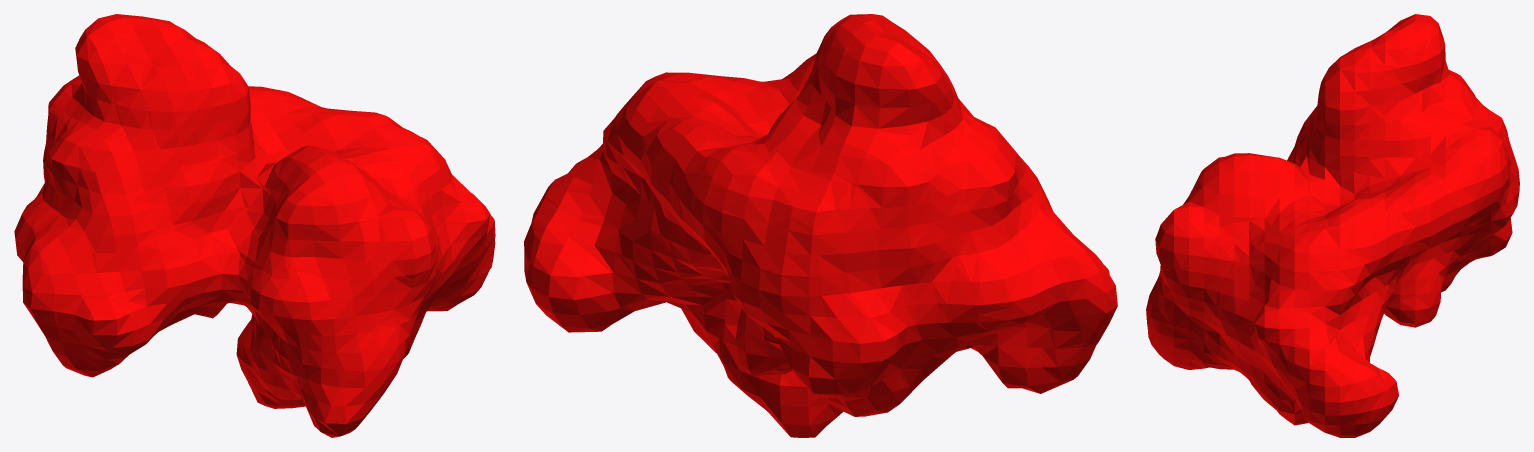
File: glpB_coarse.dae
3 renders of one model, left to right at view 1: azimuth 30°, elevation 25°; view 2: azimuth 150°, elevation 25°; view 3: azimuth 270°, elevation 25°, orthographic. The views are drawn at different scales.
Visible parts, largest first — view 1: glpB; view 2: glpB; view 3: glpB.
Part boxes in pixels (x1,y1,x2,y2): glpB: (14, 14, 495, 437); glpB: (524, 14, 1117, 437); glpB: (1146, 14, 1519, 437).
Size of the model in its own units: 81.96 by 64.03 by 63.47.
